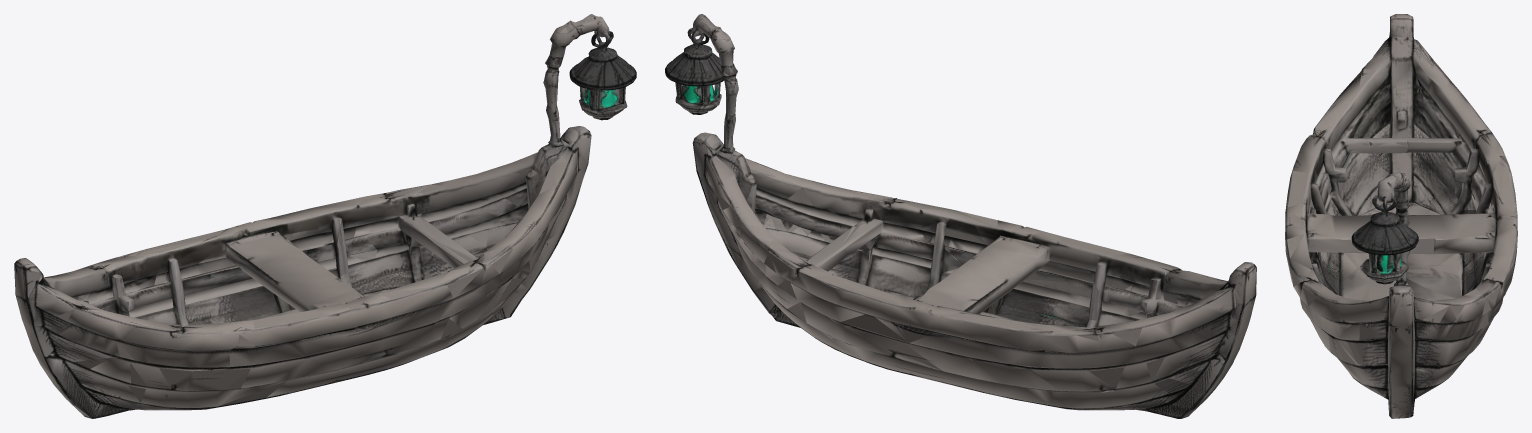
Rendered from boat.fbx.
3 renders of one model, left to right at view 1: azimuth 30°, elevation 25°; view 2: azimuth 150°, elevation 25°; view 3: azimuth 270°, elevation 25°, orthographic. The views are drawn at different scales.
Parts seen in each view (by area): view 1: Mesh_0; view 2: Mesh_0; view 3: Mesh_0.
Boxes of the visible parts, <box> form: Mesh_0: <box>14,14,636,418</box>; Mesh_0: <box>665,14,1256,418</box>; Mesh_0: <box>1285,14,1517,418</box>.
Size of the model in its own units: 190 by 85.35 by 63.43.
1 material, 1 textured.
